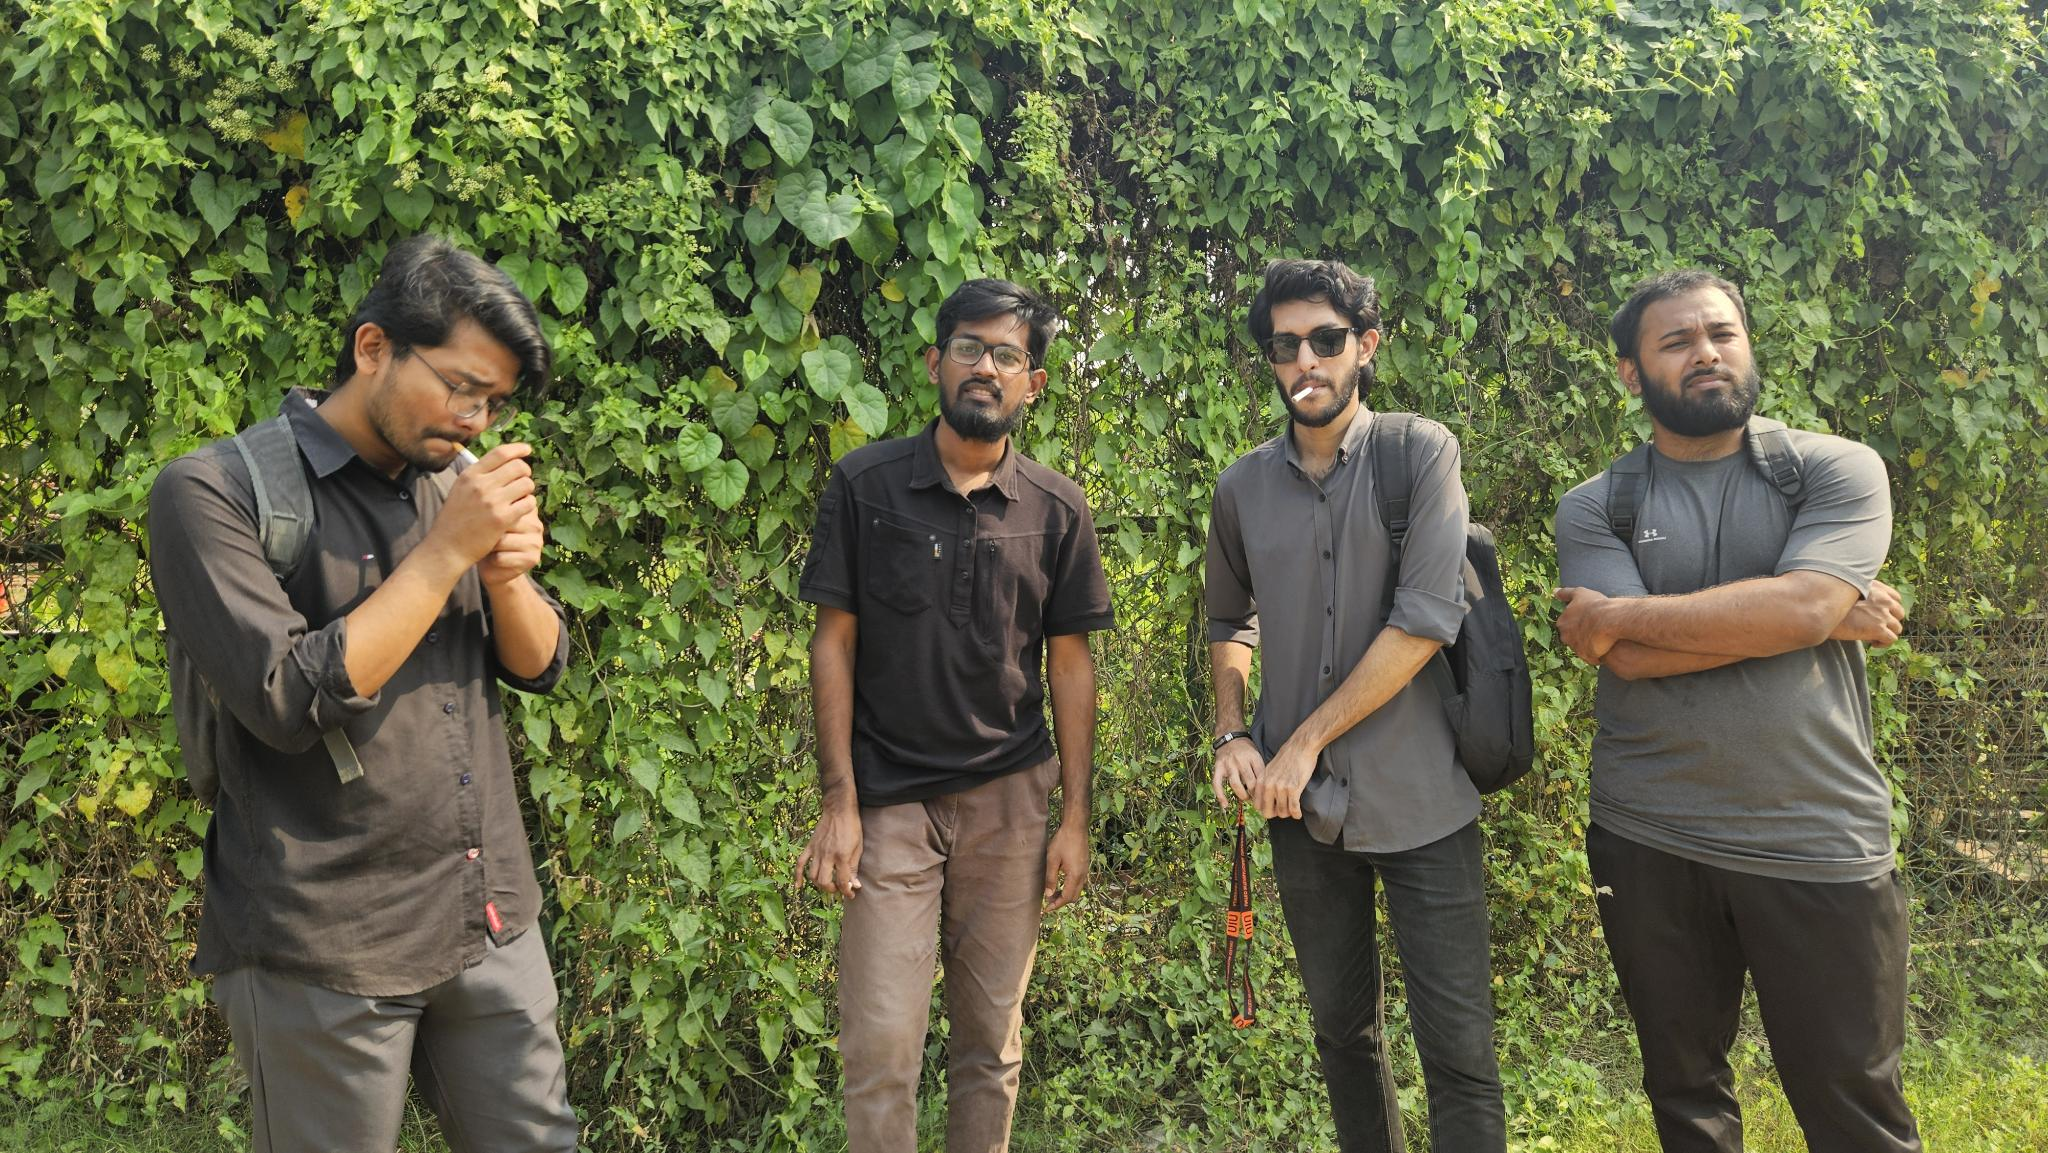cigarette: (450, 439, 480, 465), (1290, 385, 1314, 405)
nonSmoker: (1553, 271, 1923, 1153), (796, 278, 1118, 1153)
smoker: (148, 239, 578, 1153), (1204, 260, 1535, 1153)
